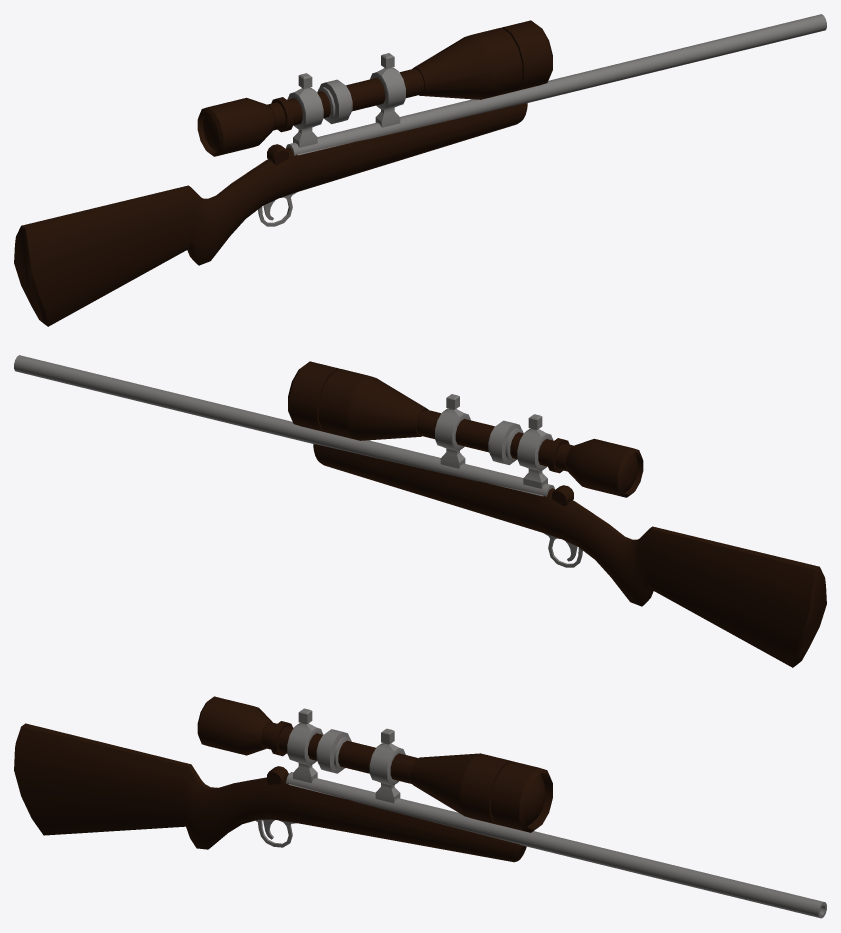
The model's file is Gun_Lower_Rifle.fbx.
3 views of the same model, one above another, from view 1: azimuth 30°, elevation 25°; view 2: azimuth 150°, elevation 25°; view 3: azimuth 330°, elevation 25° (orthographic).
Parts seen in each view (by area): view 1: SniperRifle; view 2: SniperRifle; view 3: SniperRifle.
Part boxes in pixels (x1,y1,x2,y2): SniperRifle: (14, 14, 826, 326); SniperRifle: (14, 355, 826, 667); SniperRifle: (14, 696, 826, 918).
Bounding box in the file's own units: 856 × 190 × 59.98.
